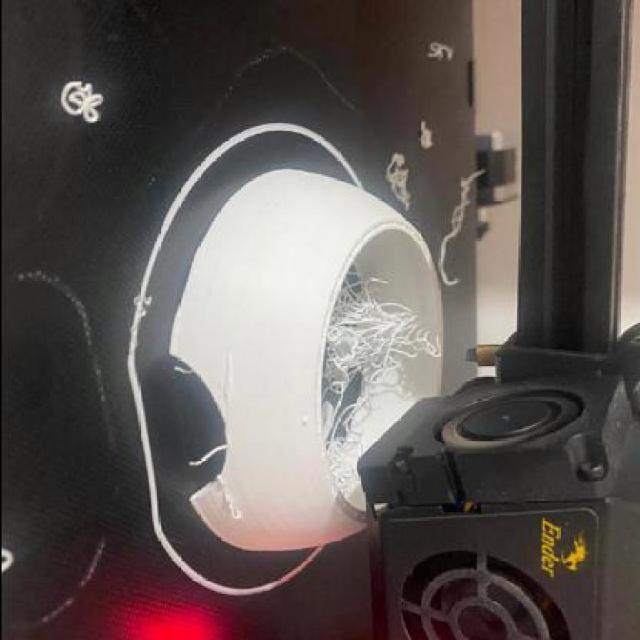spaghetti: (306, 260, 444, 502), (435, 166, 491, 285), (379, 151, 414, 214)
